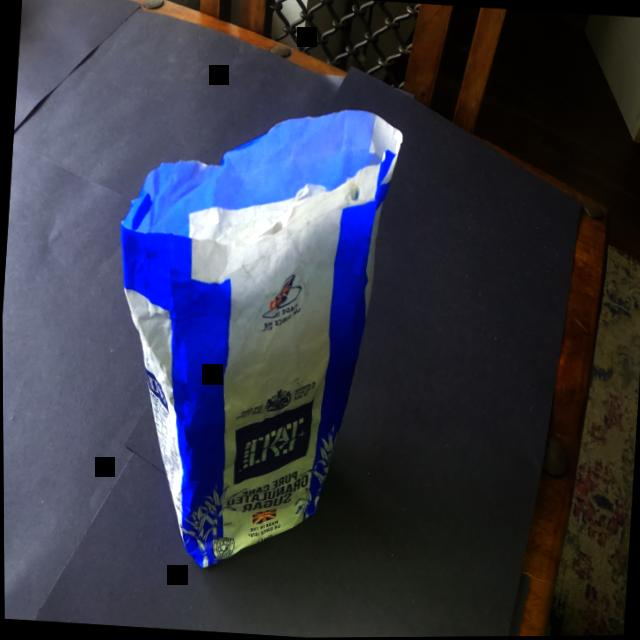Whitesugar: (70, 80, 411, 597)
